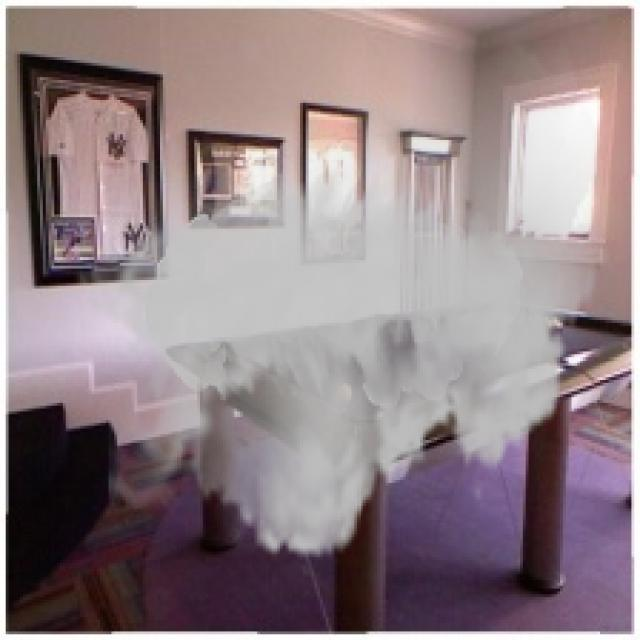smoke: (74, 11, 609, 580)
